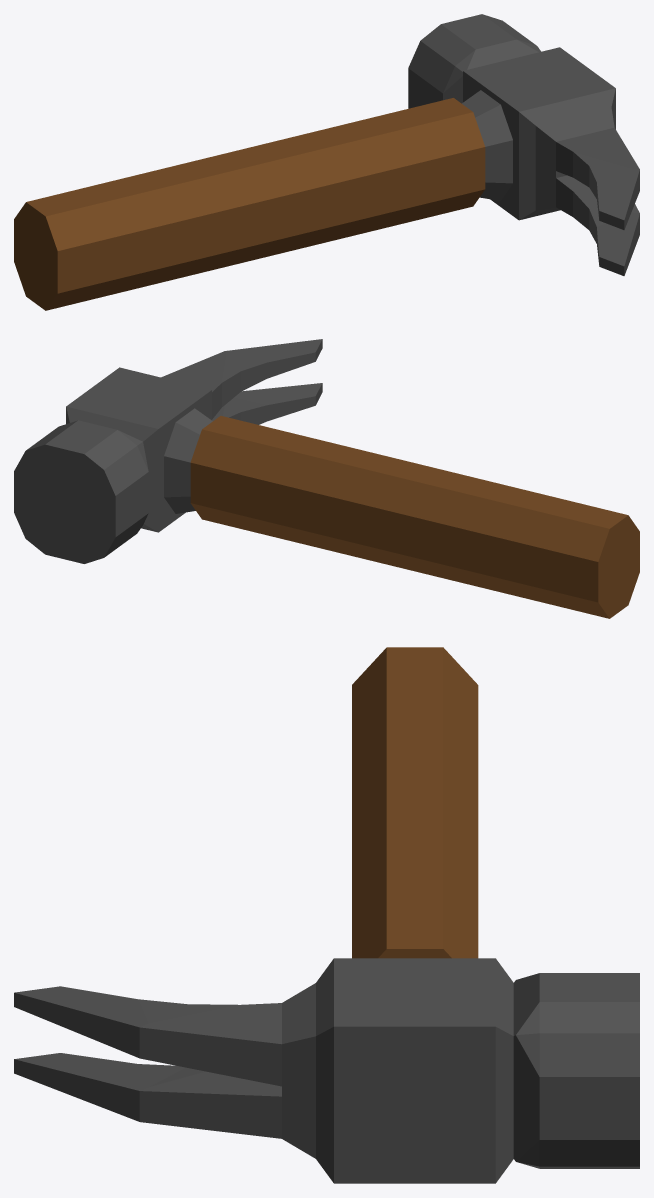
The picture shows the model from 3 angles, top to bottom: view 1: azimuth 30°, elevation 25°; view 2: azimuth 150°, elevation 25°; view 3: azimuth 270°, elevation 25°; orthographic projection. The views are drawn at different scales.
Parts seen in each view (by area): view 1: F-13; view 2: F-13; view 3: F-13.
Boxes of the visible parts, x1,y1,x2,y2 form: F-13: (14,14,639,310); F-13: (14,339,639,618); F-13: (14,647,639,1183).
Bounding box in the file's own units: 80.6 × 15.97 × 54.3.
